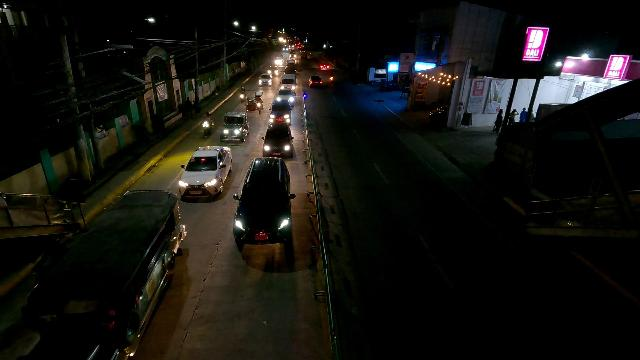car: (232, 156, 296, 246), (178, 144, 232, 196), (261, 121, 294, 157), (269, 100, 293, 127), (275, 86, 297, 108), (280, 73, 297, 89), (308, 75, 324, 88), (258, 73, 273, 86), (284, 58, 297, 72), (289, 49, 296, 59), (282, 45, 289, 51)
jeepney: (23, 188, 185, 355), (220, 111, 249, 141)
motorcycle: (202, 112, 214, 136), (254, 91, 264, 111), (245, 97, 257, 112), (239, 84, 247, 102), (271, 67, 279, 76), (240, 84, 245, 93)
